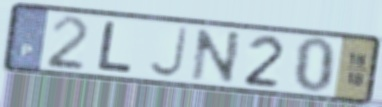0: (290, 35, 339, 95)
2: (45, 13, 90, 72), (241, 33, 286, 91)
J: (145, 25, 190, 79)
L: (94, 19, 134, 75)
N: (189, 27, 244, 86)
